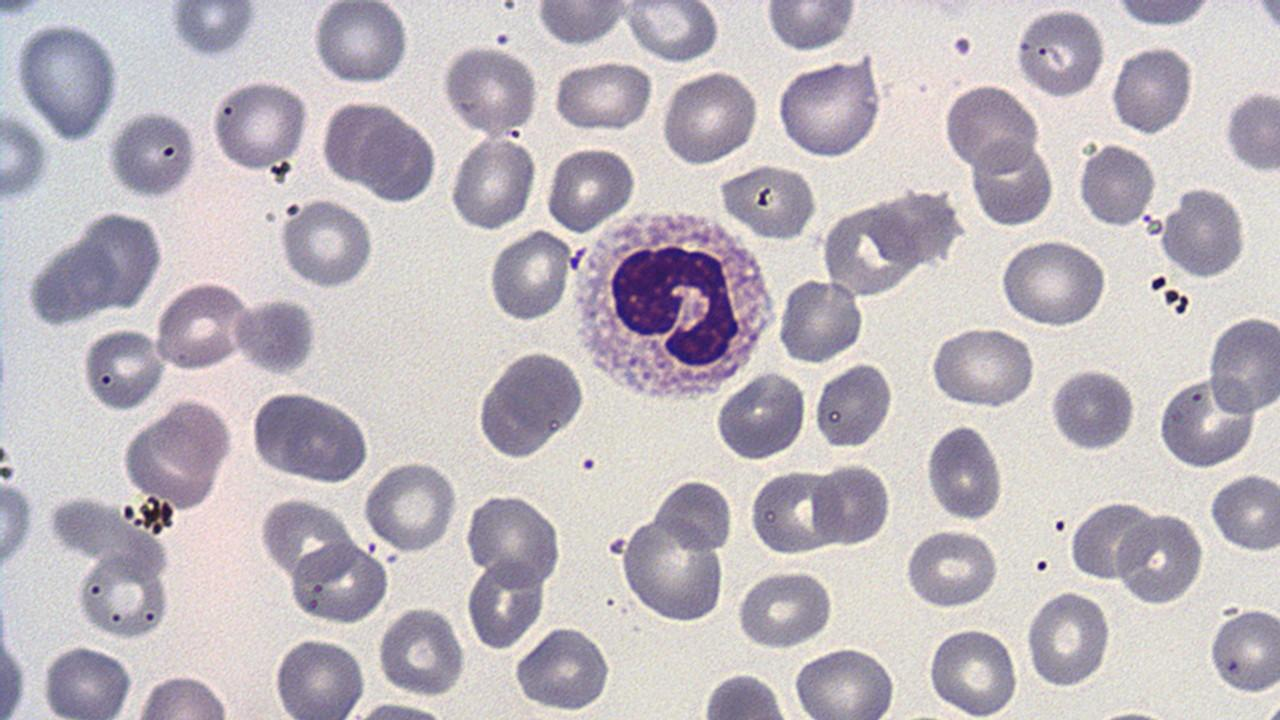Platelets: (234, 297, 321, 377), (1223, 87, 1280, 175), (0, 1, 45, 20), (493, 31, 510, 47)
RBC: (473, 345, 589, 464), (16, 21, 120, 142), (618, 514, 727, 624), (774, 53, 886, 160), (120, 407, 232, 513), (252, 390, 374, 486), (998, 236, 1110, 330), (660, 67, 760, 167), (1156, 373, 1258, 471), (463, 490, 564, 588), (822, 198, 920, 298), (208, 77, 310, 172), (438, 41, 538, 136), (926, 325, 1037, 410), (361, 459, 460, 554), (941, 81, 1043, 173), (511, 622, 613, 714), (277, 196, 376, 290), (73, 550, 174, 641), (446, 132, 537, 233), (152, 278, 249, 372), (1113, 509, 1205, 608), (286, 540, 391, 626), (1024, 588, 1112, 690), (926, 622, 1021, 716), (542, 143, 638, 236), (714, 368, 808, 462), (106, 106, 199, 200), (1012, 7, 1106, 100), (312, 1, 411, 89), (376, 602, 466, 698), (1107, 43, 1197, 138), (270, 633, 370, 718), (901, 526, 1002, 610), (925, 419, 1005, 524), (749, 465, 841, 556), (1159, 184, 1245, 281), (716, 161, 818, 241), (486, 227, 570, 324), (969, 138, 1055, 230), (791, 644, 899, 717), (733, 568, 831, 648), (465, 556, 546, 652), (776, 276, 864, 364), (1049, 364, 1135, 454), (550, 60, 656, 132), (78, 327, 167, 412), (1067, 498, 1157, 582), (1076, 140, 1158, 231), (1208, 314, 1280, 416), (37, 643, 135, 717), (320, 97, 400, 187), (812, 360, 892, 450), (812, 459, 891, 549), (1206, 603, 1280, 697), (358, 118, 437, 206), (234, 296, 318, 376), (653, 476, 734, 552), (1208, 468, 1278, 555), (623, 1, 721, 63), (169, 0, 257, 61), (1222, 84, 1280, 176), (764, 0, 858, 54), (131, 673, 237, 717), (533, 1, 628, 49), (0, 110, 47, 200), (0, 477, 36, 574), (1106, 0, 1214, 29)
WBC: (560, 201, 778, 409)
